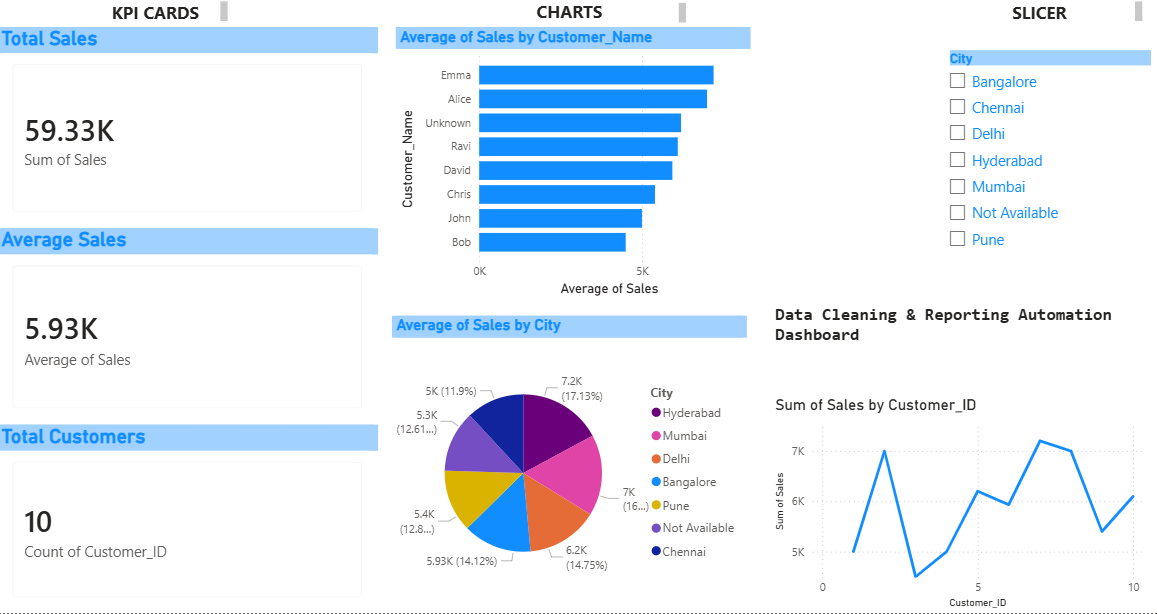

Layout of this report page (visuals, bound fields, positions):
{"tool":"powerbi","page":{"name":"Page 1","canvas":[1280,720],"ordinal":0},"visuals":[{"type":"cardVisual","title":"Total Sales","fields":{"Data":["Sum(cleaned sales data.Sales)"]},"box":[0,76.8,418.5,220.9],"z":0},{"type":"cardVisual","title":"Total Customers","fields":{"Data":["CountNonNull(cleaned sales data.Customer_ID)"]},"box":[0,513.2,418.5,207.2],"z":1},{"type":"cardVisual","title":"Average Sales","fields":{"Data":["Avg(cleaned sales data.Sales)"]},"box":[0,297.8,418.5,215.4],"z":2},{"type":"clusteredBarChart","fields":{"Y":["Avg(cleaned sales data.Sales)"],"Category":["cleaned sales data.Customer_Name"]},"box":[437.7,76.8,389.7,300.5],"z":3},{"type":"pieChart","fields":{"Category":["cleaned sales data.City"],"Y":["Avg(cleaned sales data.Sales)"]},"box":[433.6,393.8,389.7,326.6],"z":4},{"type":"lineChart","fields":{"Category":["cleaned sales data.Customer_ID"],"Y":["Sum(cleaned sales data.Sales)"]},"box":[849.4,481.6,413,238.8],"z":5},{"type":"textbox","box":[98.8,43.9,159.2,32.9],"z":6},{"type":"textbox","box":[503.6,43.9,258,32.9],"z":7},{"type":"slicer","fields":{"Values":["cleaned sales data.City"]},"box":[1033.3,97.4,247,249.7],"z":8},{"type":"textbox","box":[1033.3,43.9,229.2,32.9],"z":9},{"type":"textbox","box":[849.4,377.4,413,76.8],"z":10}]}

Visuals, with their boxes on the page's 1280x720 design canvas (x1, y1, x2, y2). These are canvas units, not pixel positions in the 1157x614 screenshot, which may show the page scaled, cropped or inside an application window:
"Total Sales" cardVisual: l=0, t=77, r=418, b=298
"Total Customers" cardVisual: l=0, t=513, r=418, b=720
"Average Sales" cardVisual: l=0, t=298, r=418, b=513
clusteredBarChart - Avg(cleaned sales data.Sales) x cleaned sales data.Customer_Name: l=438, t=77, r=827, b=377
pieChart - cleaned sales data.City x Avg(cleaned sales data.Sales): l=434, t=394, r=823, b=720
lineChart - cleaned sales data.Customer_ID x Sum(cleaned sales data.Sales): l=849, t=482, r=1262, b=720
textbox: l=99, t=44, r=258, b=77
textbox: l=504, t=44, r=762, b=77
slicer - cleaned sales data.City: l=1033, t=97, r=1280, b=347
textbox: l=1033, t=44, r=1262, b=77
textbox: l=849, t=377, r=1262, b=454
